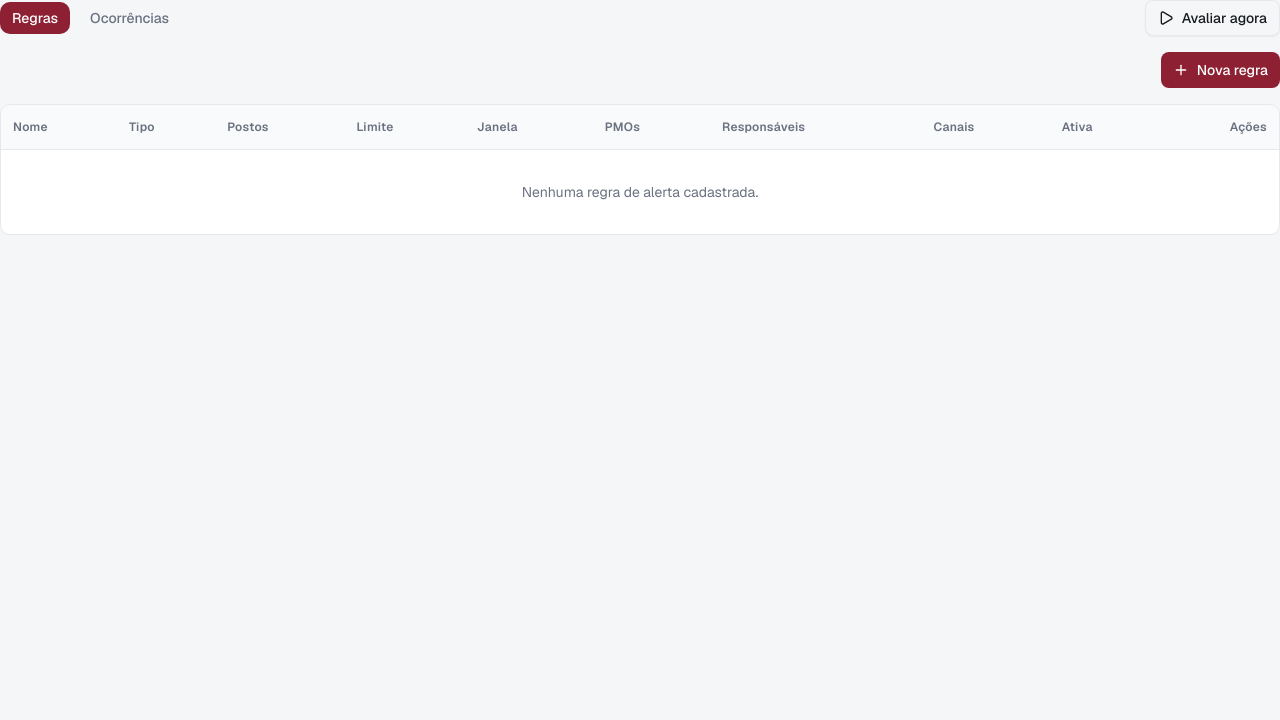
it: a tela de Alertas servindo dois módulos › no Recebimento, Nova regra abre a escolha com o cartão de Fim de EMB
Click the button "Nova regra" at x=1220, y=70, box [1161,52,1279,88]
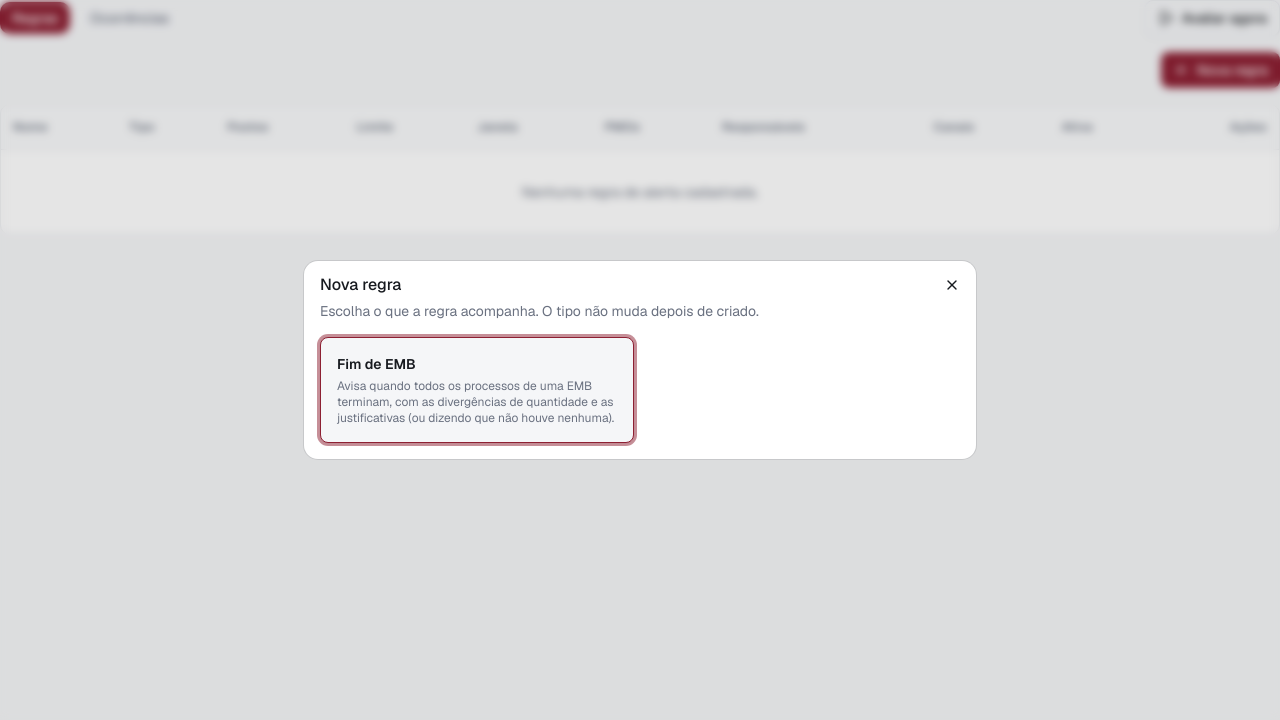
Expected: the button "Fim de EMB" is shown, [320,337,634,443]
